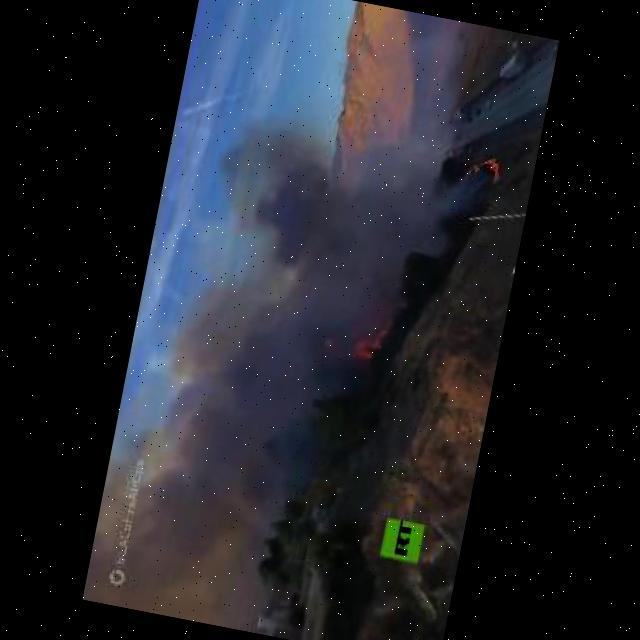fire: (349, 322, 388, 366), (462, 154, 501, 188)
